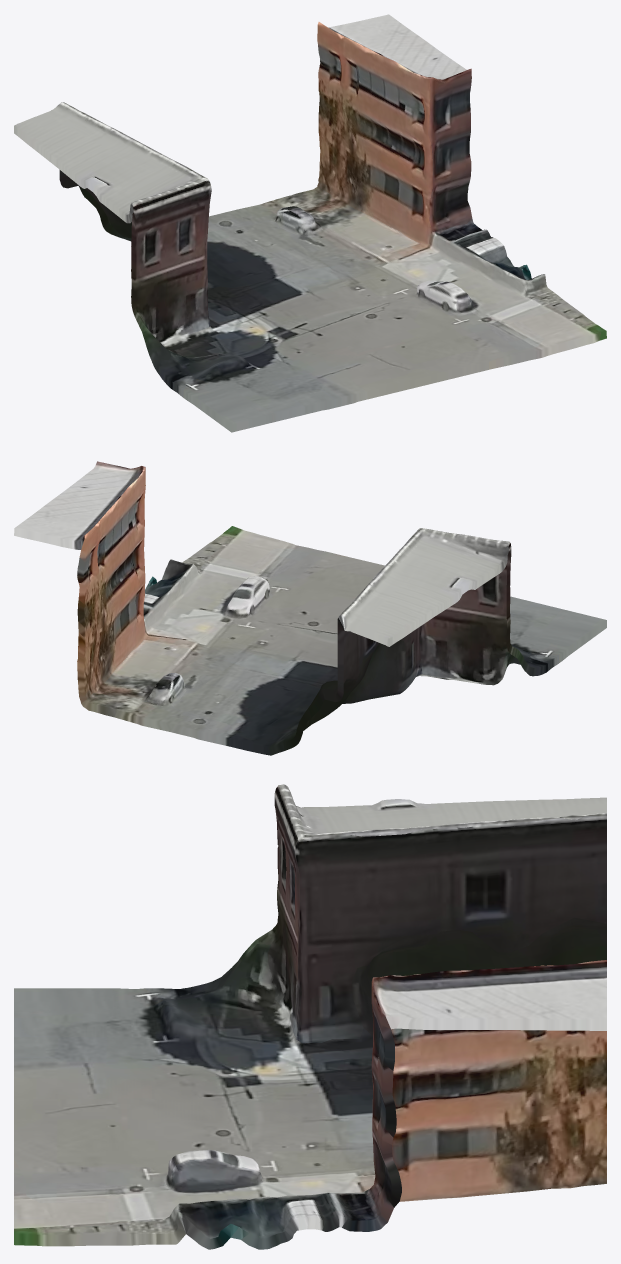
File: z20-167770-405198-h0-yup-uvflip-v3-world.glb
3 views of the same model, one above another, from view 1: azimuth 30°, elevation 25°; view 2: azimuth 150°, elevation 25°; view 3: azimuth 270°, elevation 25° (orthographic). The views are drawn at different scales.
Bounding box in the file's own units: 30.2 × 13.72 × 30.32.
1 material, 1 textured.
